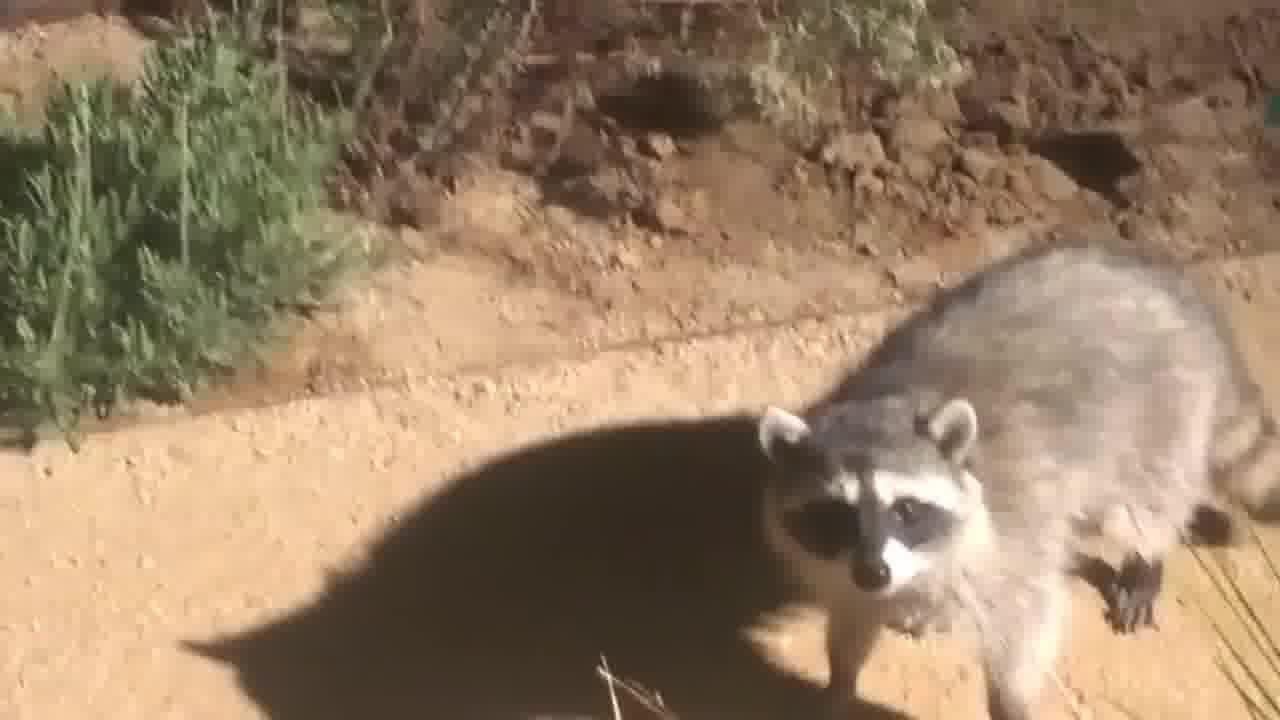raccoon: (742, 224, 1280, 720)
